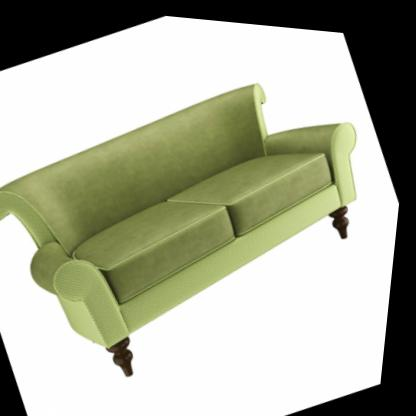Sofa: (0, 24, 414, 416)
